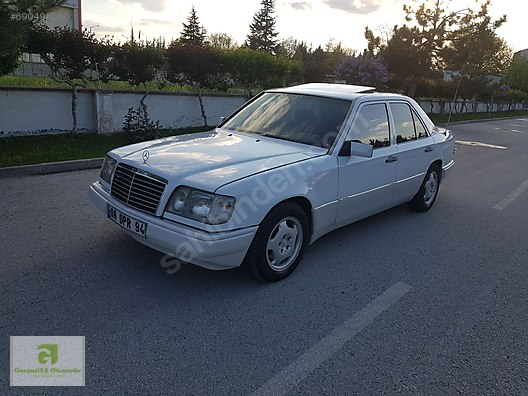mercedes: (84, 79, 451, 285)
